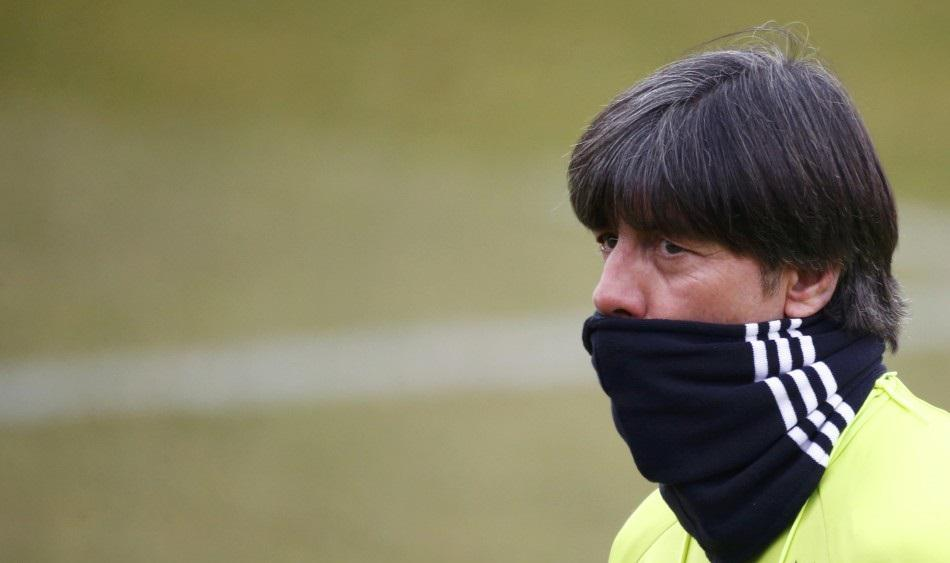WRONG: (579, 213, 776, 410)
